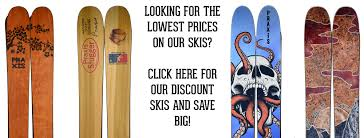skis: (75, 6, 134, 138), (227, 6, 285, 138), (303, 7, 360, 138), (1, 7, 56, 138)
